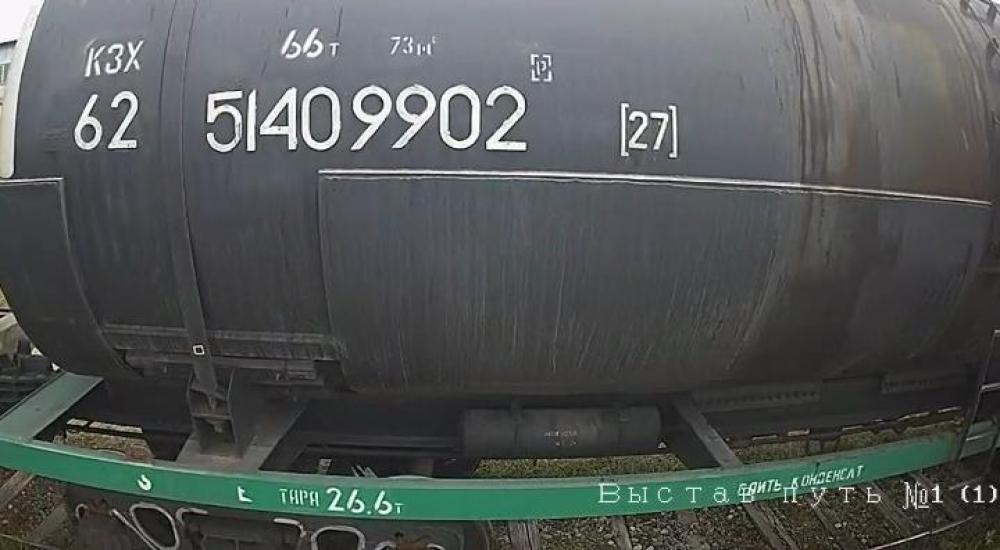Wagon-number: (197, 79, 535, 161)
